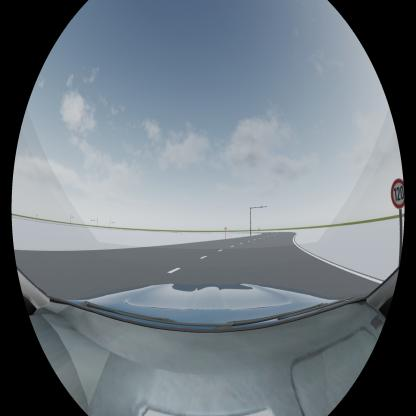Speed Limit 120: (391, 178, 404, 209)
